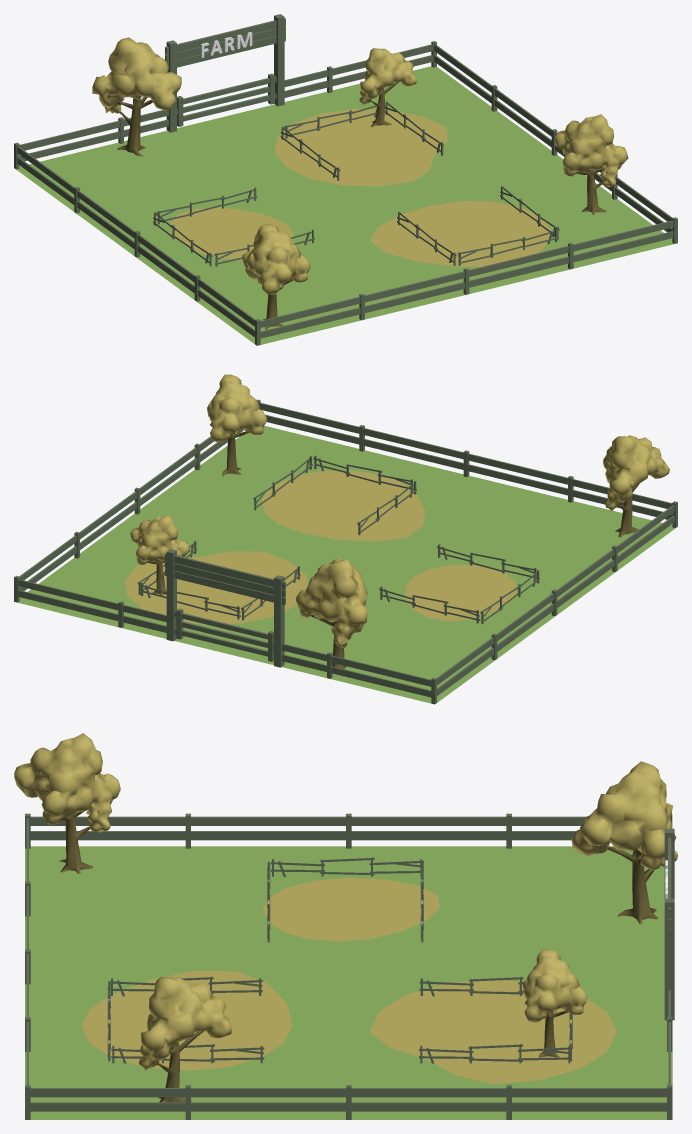
File: farm.fbx
3 renders of one model, top to bottom at view 1: azimuth 30°, elevation 25°; view 2: azimuth 150°, elevation 25°; view 3: azimuth 270°, elevation 25°, orthographic. The views are drawn at different scales.
Visible parts, largest first — view 1: ground, wood_fence, tree.006, tree.007, tree.004, tree.005, fence.wood.015, fence.wood.008, fence.wood.012; view 2: ground, wood_fence, tree.006, tree.004, tree.007, tree.005, fence.wood.008, fence.wood.015, fence.wood.011, fence.wood.012; view 3: ground, wood_fence, tree.006, tree.004, tree.007, tree.005, fence.wood.014, fence.wood.010, fence.wood.016, fence.wood.017, fence.wood.013.
Boxes of the visible parts, x1,y1,x2,y2 form: ground: (16,66,673,344); wood_fence: (14,14,677,345); tree.006: (92,37,181,156); tree.007: (554,114,628,214); tree.004: (242,223,310,330); tree.005: (359,48,416,127); fence.wood.015: (457,228,558,265); fence.wood.008: (156,187,257,224); fence.wood.012: (284,105,384,138); ground: (18,425,675,703); wood_fence: (14,399,677,704); tree.006: (295,558,367,676); tree.004: (603,435,669,537); tree.007: (207,374,266,476); tree.005: (130,515,189,595); fence.wood.008: (379,586,480,623); fence.wood.015: (313,455,413,491); fence.wood.011: (437,544,536,580); fence.wood.012: (140,582,240,619); ground: (25,846,672,1119); wood_fence: (25,813,674,1119); tree.006: (571,761,677,924); tree.004: (14,733,120,873); tree.007: (138,976,231,1102); tree.005: (522,949,587,1057); fence.wood.014: (419,1044,571,1063); fence.wood.010: (271,857,423,876); fence.wood.016: (111,1044,264,1063); fence.wood.017: (111,976,262,996); fence.wood.013: (419,976,523,996).
Bounding box in the file's own units: 16 × 4.13 × 16.41.
Materials: 1 (1 with a texture image).
